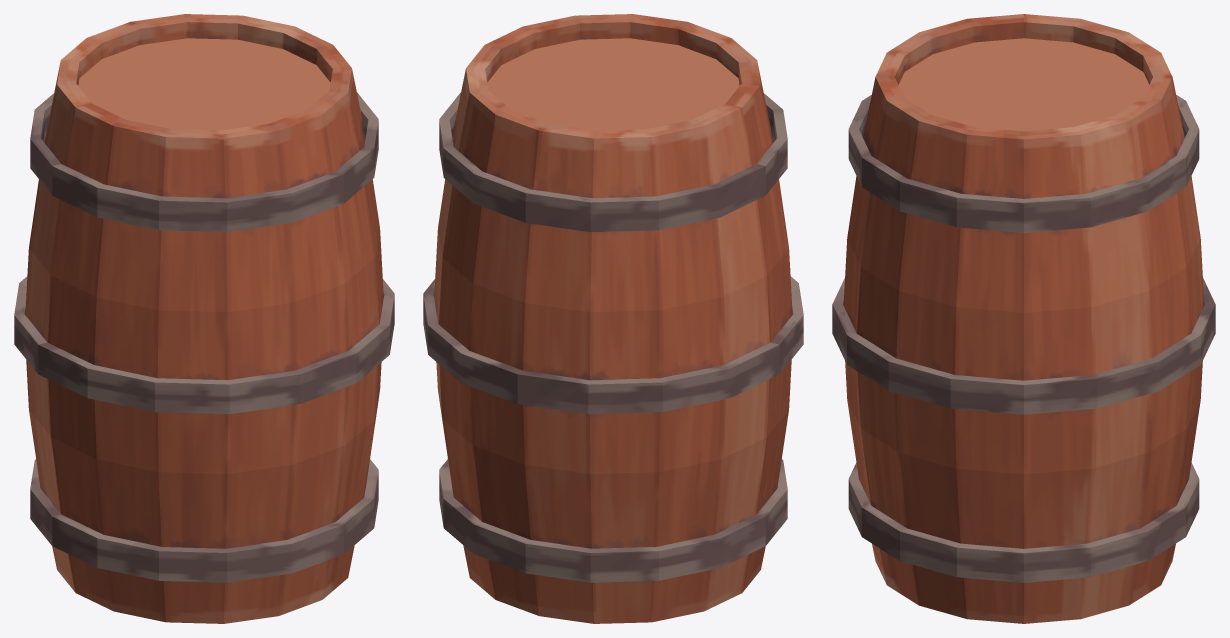
Rendered from barrel.fbx.
3 renders of one model, left to right at view 1: azimuth 30°, elevation 25°; view 2: azimuth 150°, elevation 25°; view 3: azimuth 270°, elevation 25°, orthographic.
Parts seen in each view (by area): view 1: barrel; view 2: barrel; view 3: barrel.
Boxes of the visible parts, x1,y1,x2,y2 form: barrel: (14,14,394,623); barrel: (423,14,803,623); barrel: (832,14,1215,623).
Bounding box in the file's own units: 2.58 × 3.6 × 2.58.
1 material, 1 textured.
